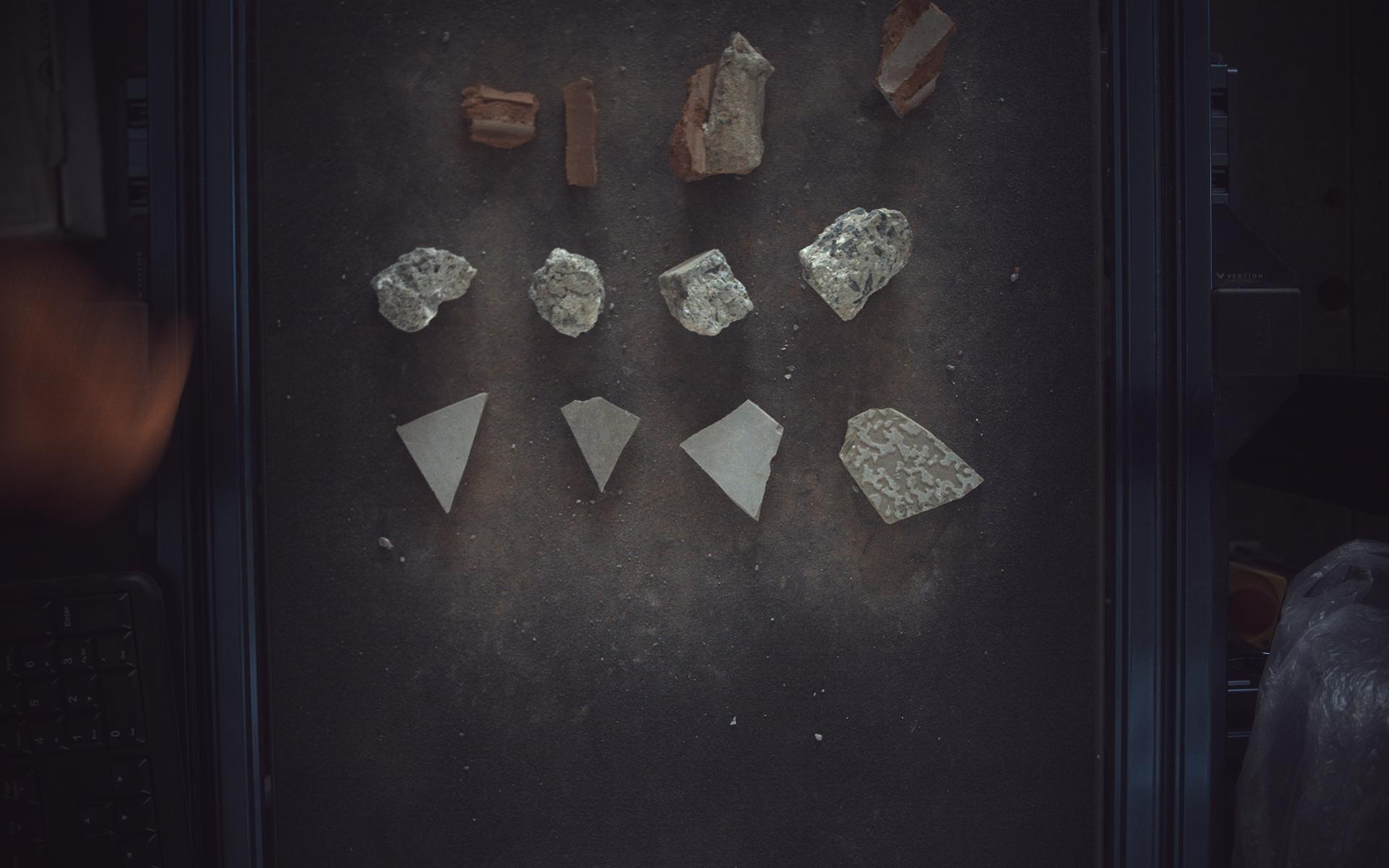brick: (671, 30, 776, 181), (877, 1, 957, 116), (462, 84, 540, 148), (564, 76, 598, 186)
concrete: (801, 207, 914, 320), (371, 247, 477, 332), (659, 248, 755, 336), (529, 247, 606, 337)
tile: (841, 409, 985, 524), (682, 400, 785, 521), (396, 393, 487, 514), (561, 397, 641, 491)
